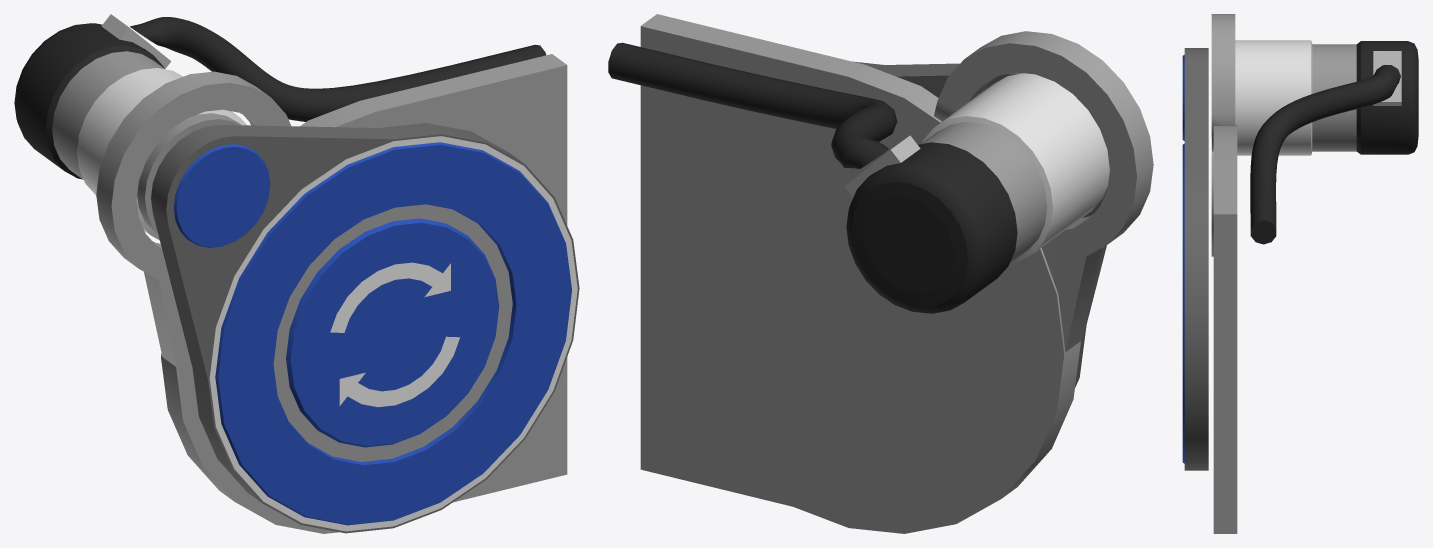
File: Steering_FR.glb
The picture shows the model from 3 angles, left to right: view 1: azimuth 30°, elevation 25°; view 2: azimuth 150°, elevation 25°; view 3: azimuth 270°, elevation 25°; orthographic projection. The views are drawn at different scales.
Visible parts, largest first — view 1: Steering_FR; view 2: Steering_FR; view 3: Steering_FR.
Boxes of the visible parts, x1,y1,x2,y2 form: Steering_FR: (14,14,579,533); Steering_FR: (608,14,1153,533); Steering_FR: (1182,14,1418,533).
Bounding box in the file's own units: 0.1742 × 0.175 × 0.0988.
